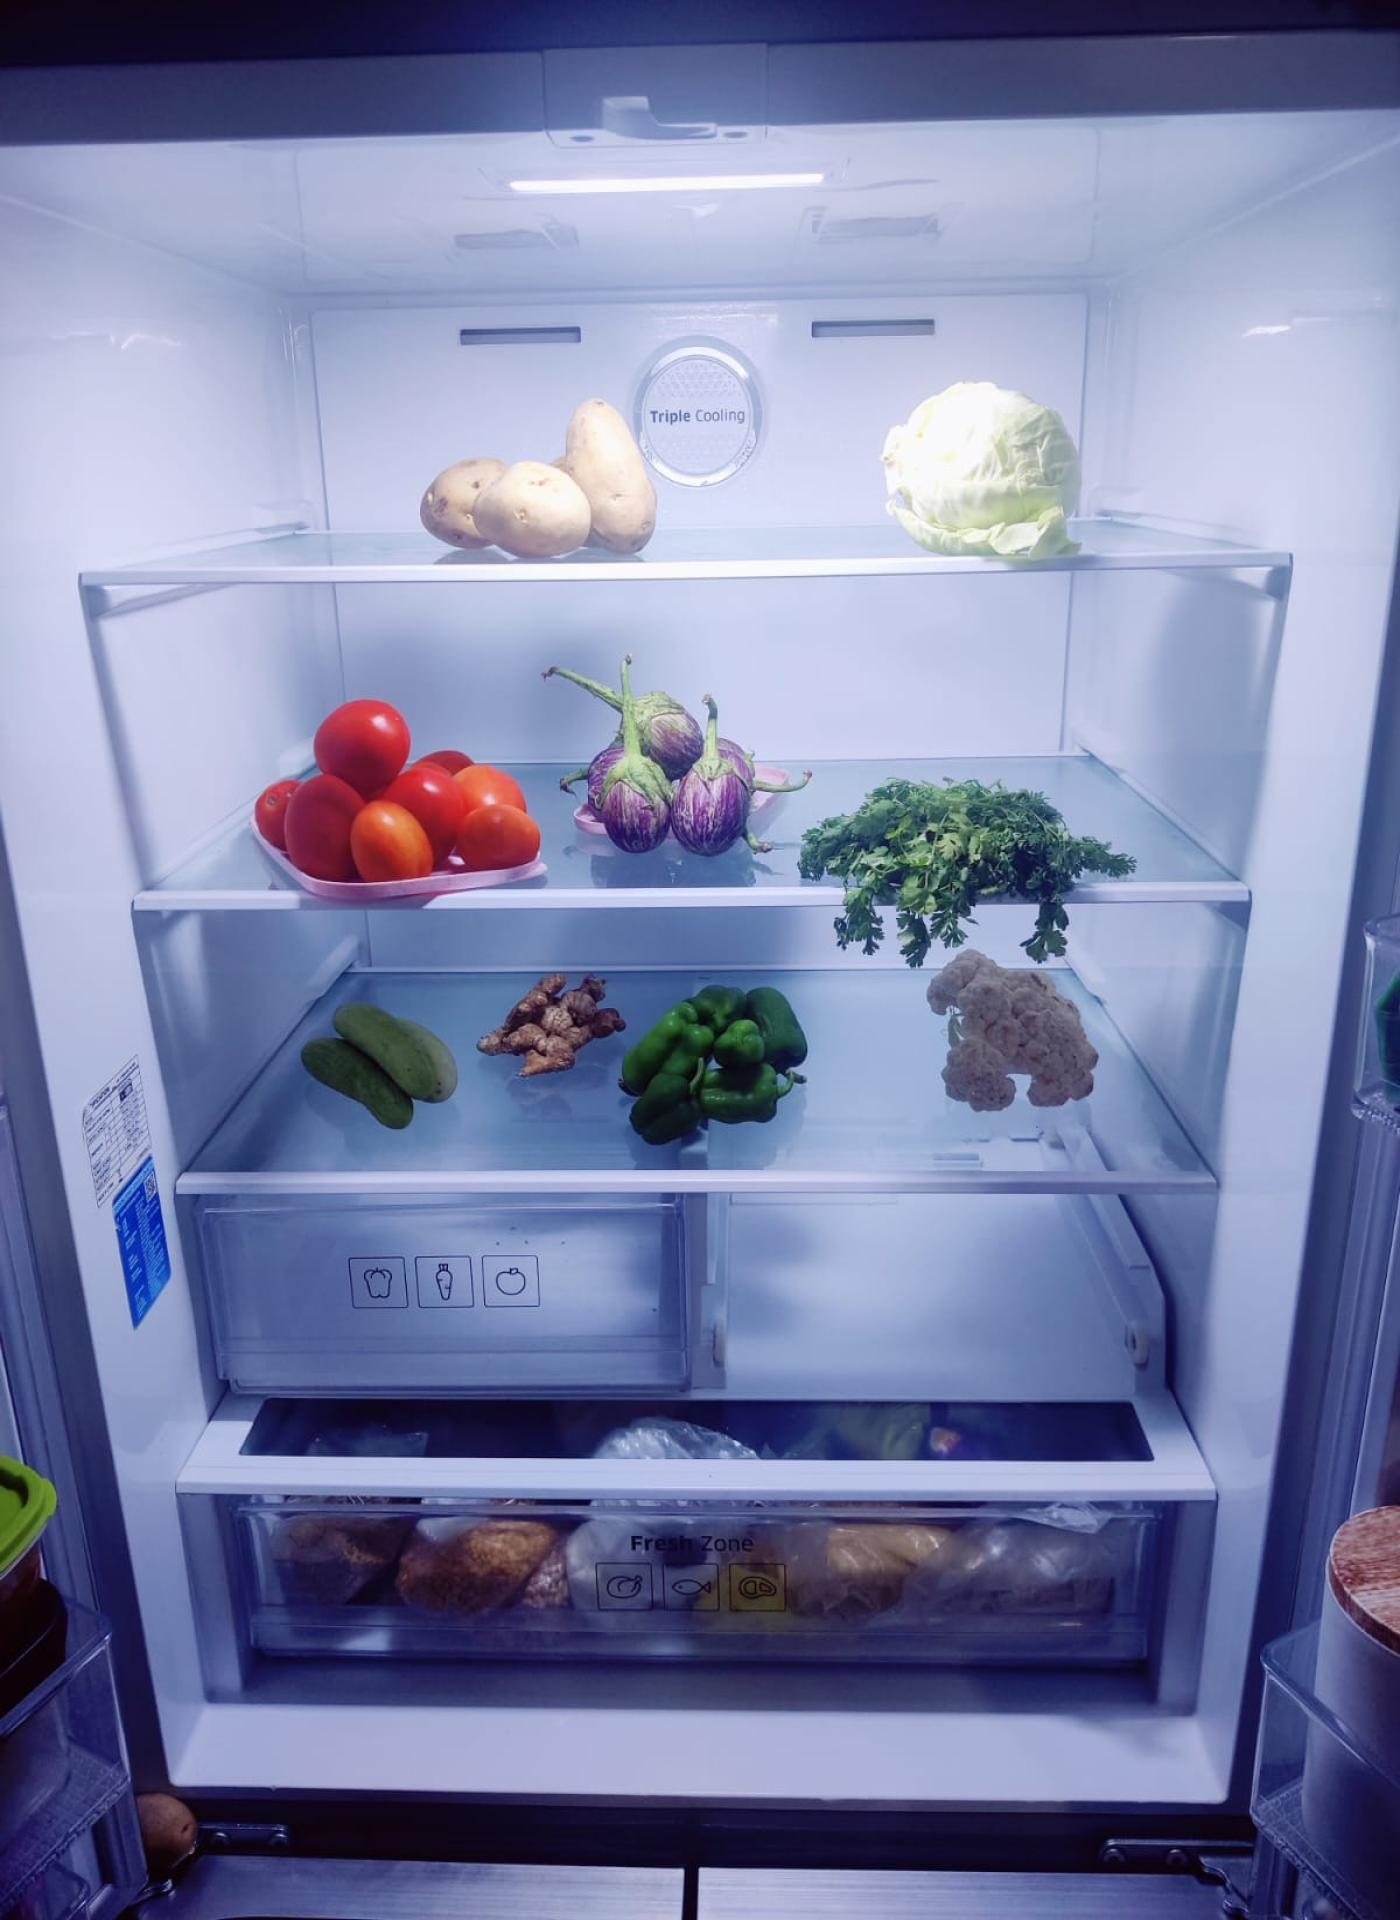brinjal: (581, 683, 753, 847)
cabbage: (887, 380, 1087, 553)
capsicum: (628, 988, 810, 1142)
cauliflower: (929, 954, 1096, 1109)
coriander: (805, 780, 1130, 918)
cucumber: (301, 1000, 464, 1127)
ginger: (482, 973, 628, 1081)
potato: (417, 395, 656, 552)
tomato: (255, 702, 532, 887)
